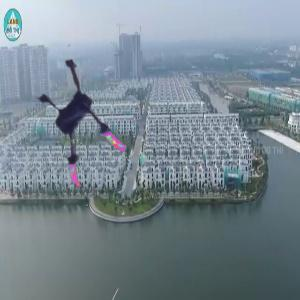drone: (20, 58, 150, 188)
